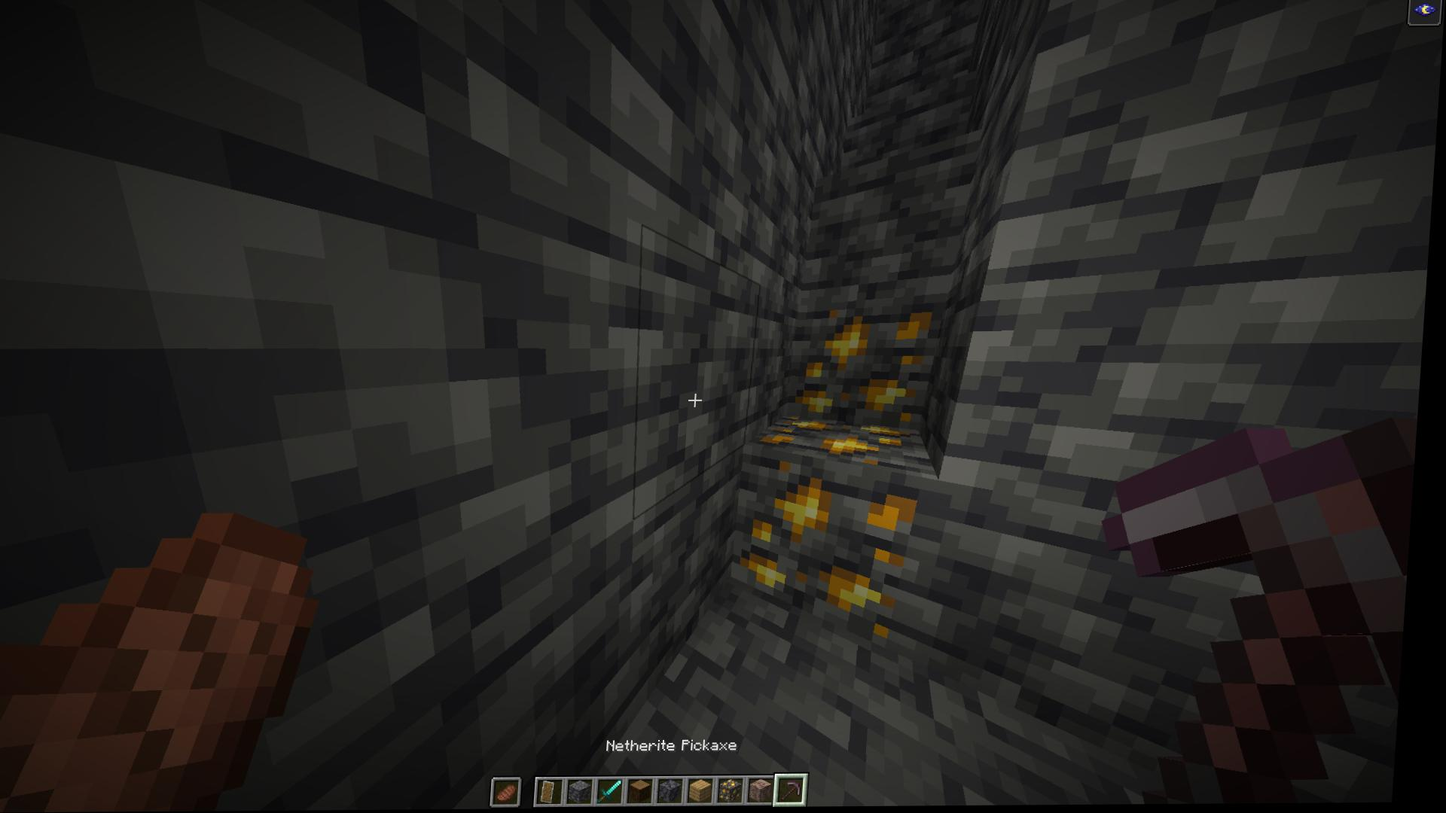gold ore: (729, 475, 921, 642), (790, 302, 942, 425), (757, 411, 941, 478)
